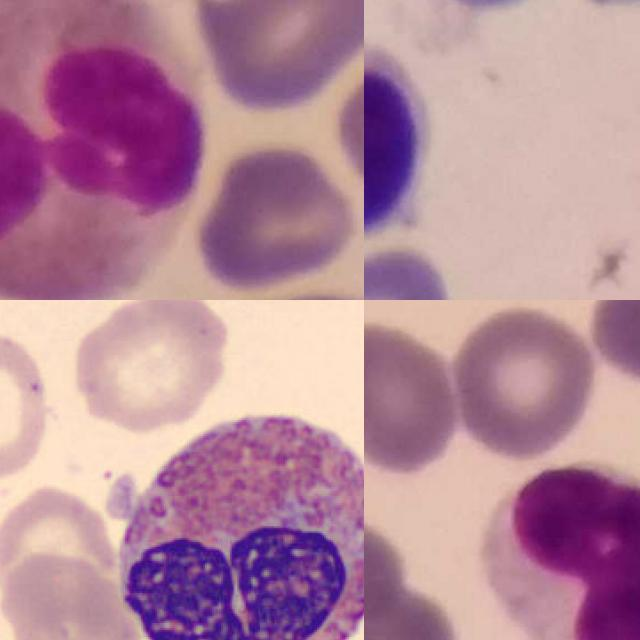Eosinophil: (105, 392, 364, 640), (0, 0, 204, 300)
Lymphocyte: (482, 459, 640, 640), (364, 35, 429, 246)
RBC: (68, 300, 231, 434), (0, 549, 148, 640), (0, 328, 55, 483)
